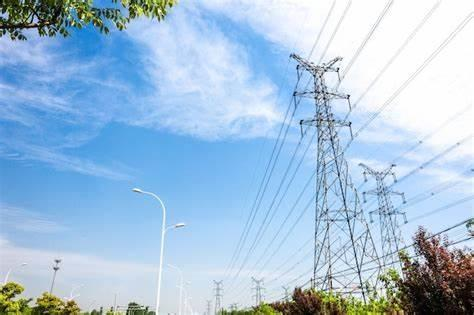power_tower: (281, 46, 388, 307), (358, 155, 415, 284), (208, 278, 233, 315), (250, 274, 268, 309)
